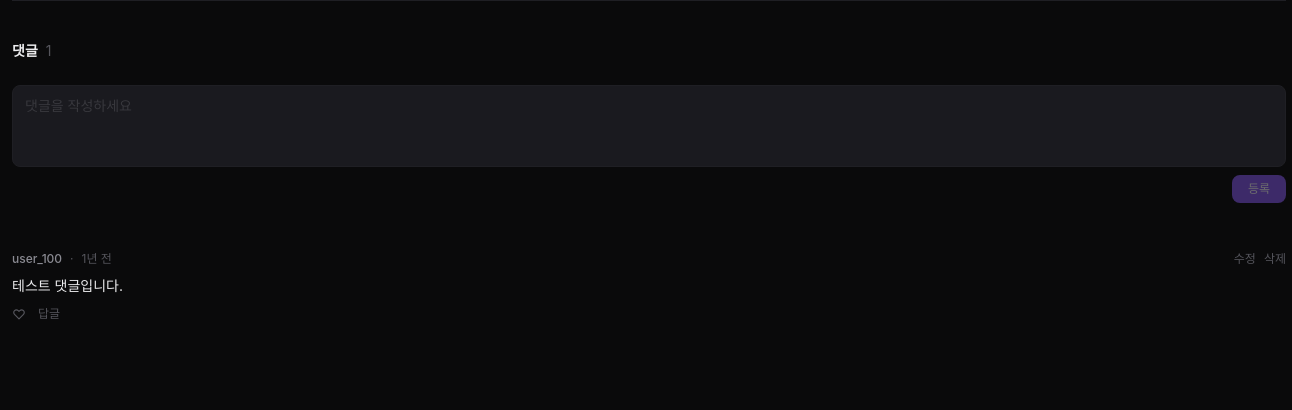
Test: CommentItem — 수정 › 취소 클릭 시 편집 폼이 닫힌다
The image size is (1292, 410).
Expected: the text "테스트 댓글입니다." is shown, [12,277,123,294]
Step 1. Click the button "수정" → coordinates (1245, 259), box [1234,251,1256,267]
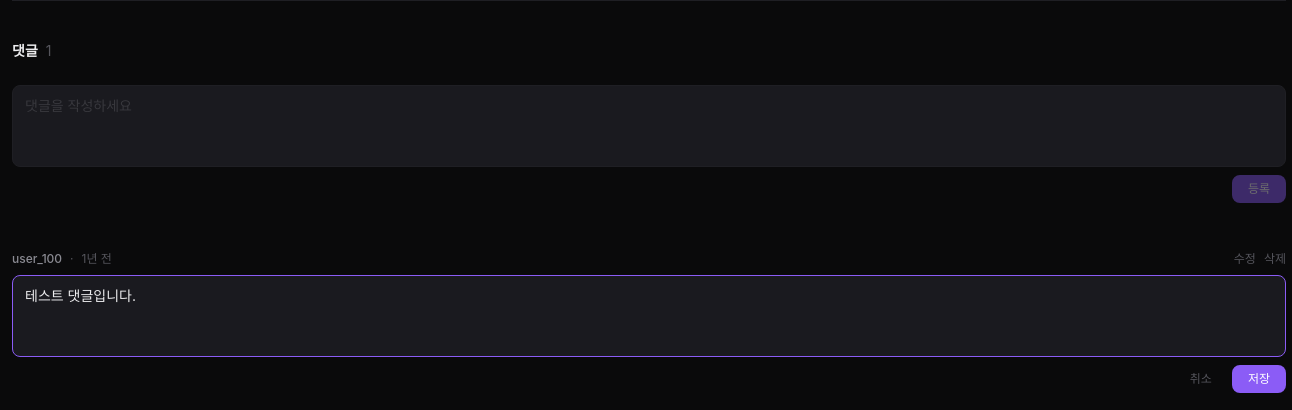
Expected: the text box showing "테스트 댓글입니다." is shown, [12,275,1286,357]
Step 2. Click the button "취소" → coordinates (1201, 379), box [1178,365,1224,393]
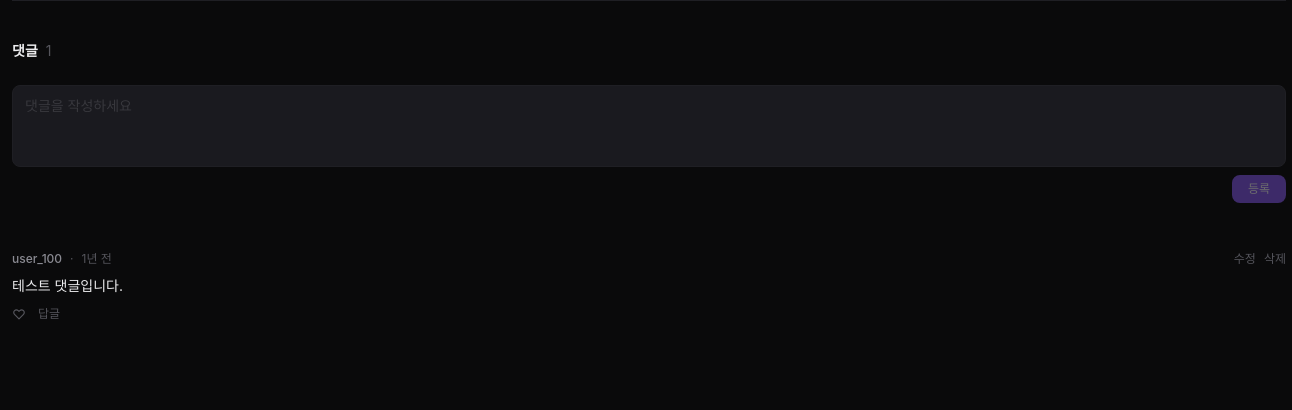
Expected: the text "테스트 댓글입니다." is shown, [12,277,123,294]
